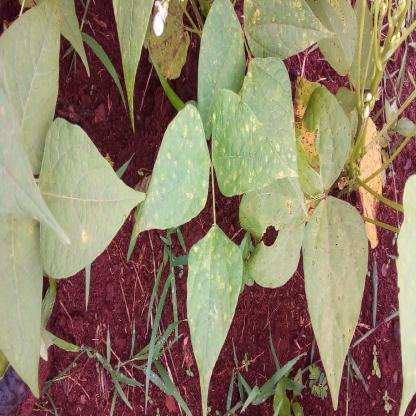Beans_Rust: (35, 117, 143, 283), (125, 106, 206, 266), (304, 199, 367, 404), (186, 227, 241, 416), (210, 87, 296, 197), (240, 0, 335, 63), (200, 0, 245, 116)
